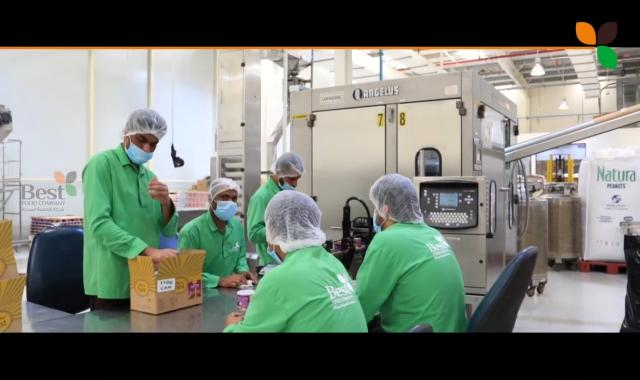hairnet: (266, 190, 326, 252), (368, 171, 424, 227), (124, 108, 165, 143), (204, 177, 244, 211), (267, 152, 304, 182)
